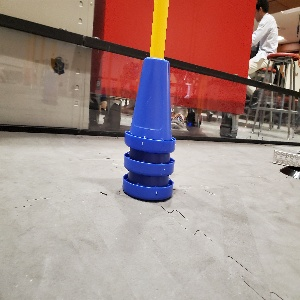Blue_3: (123, 55, 175, 202)
